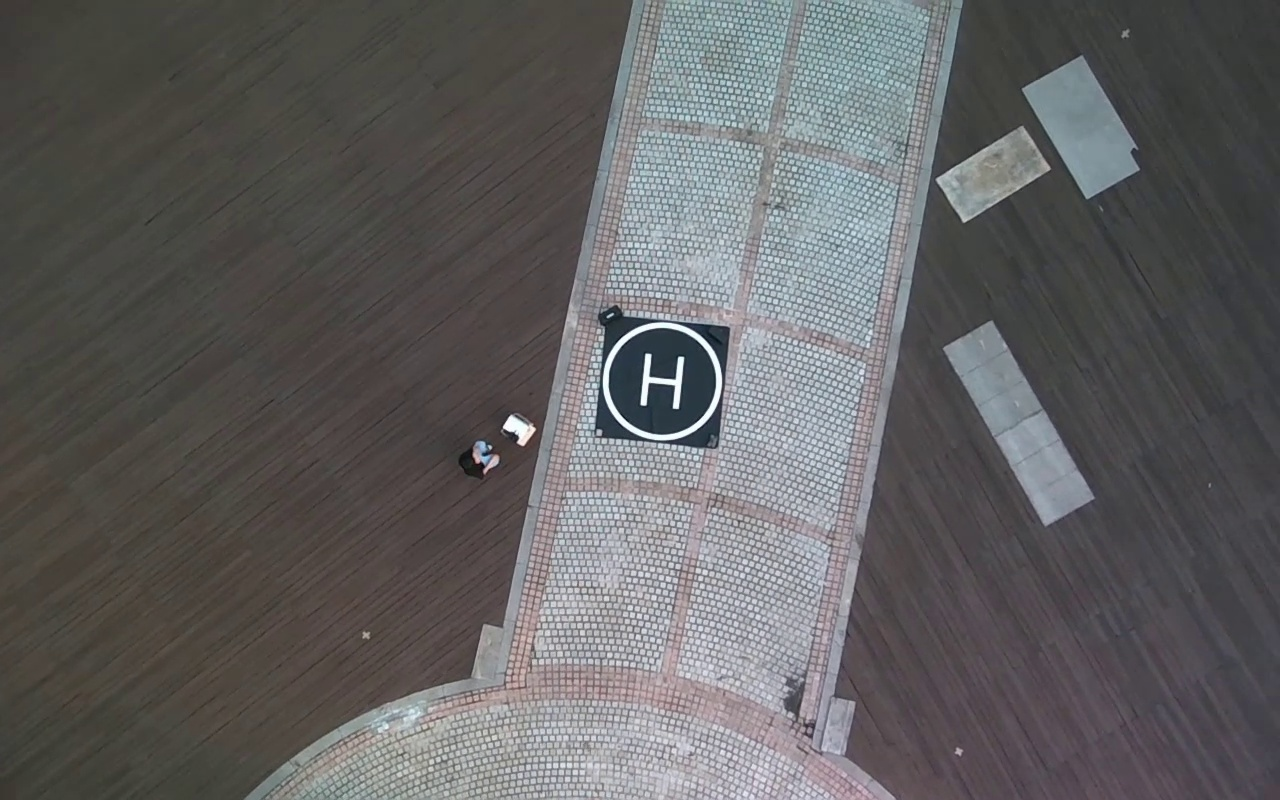H: (636, 353, 685, 408)
heliport: (602, 322, 723, 442)
